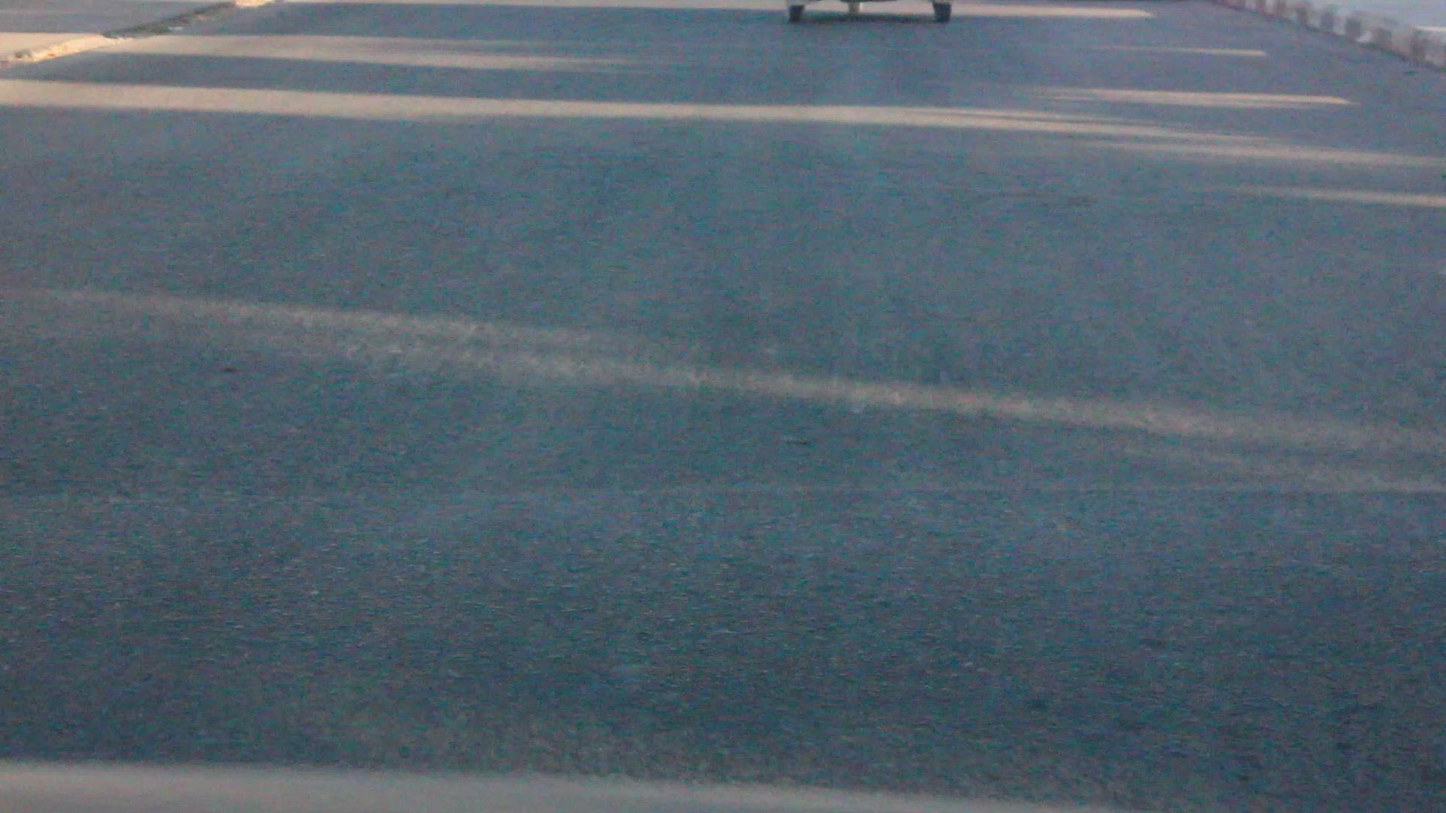Bump: (24, 489, 1446, 813)
